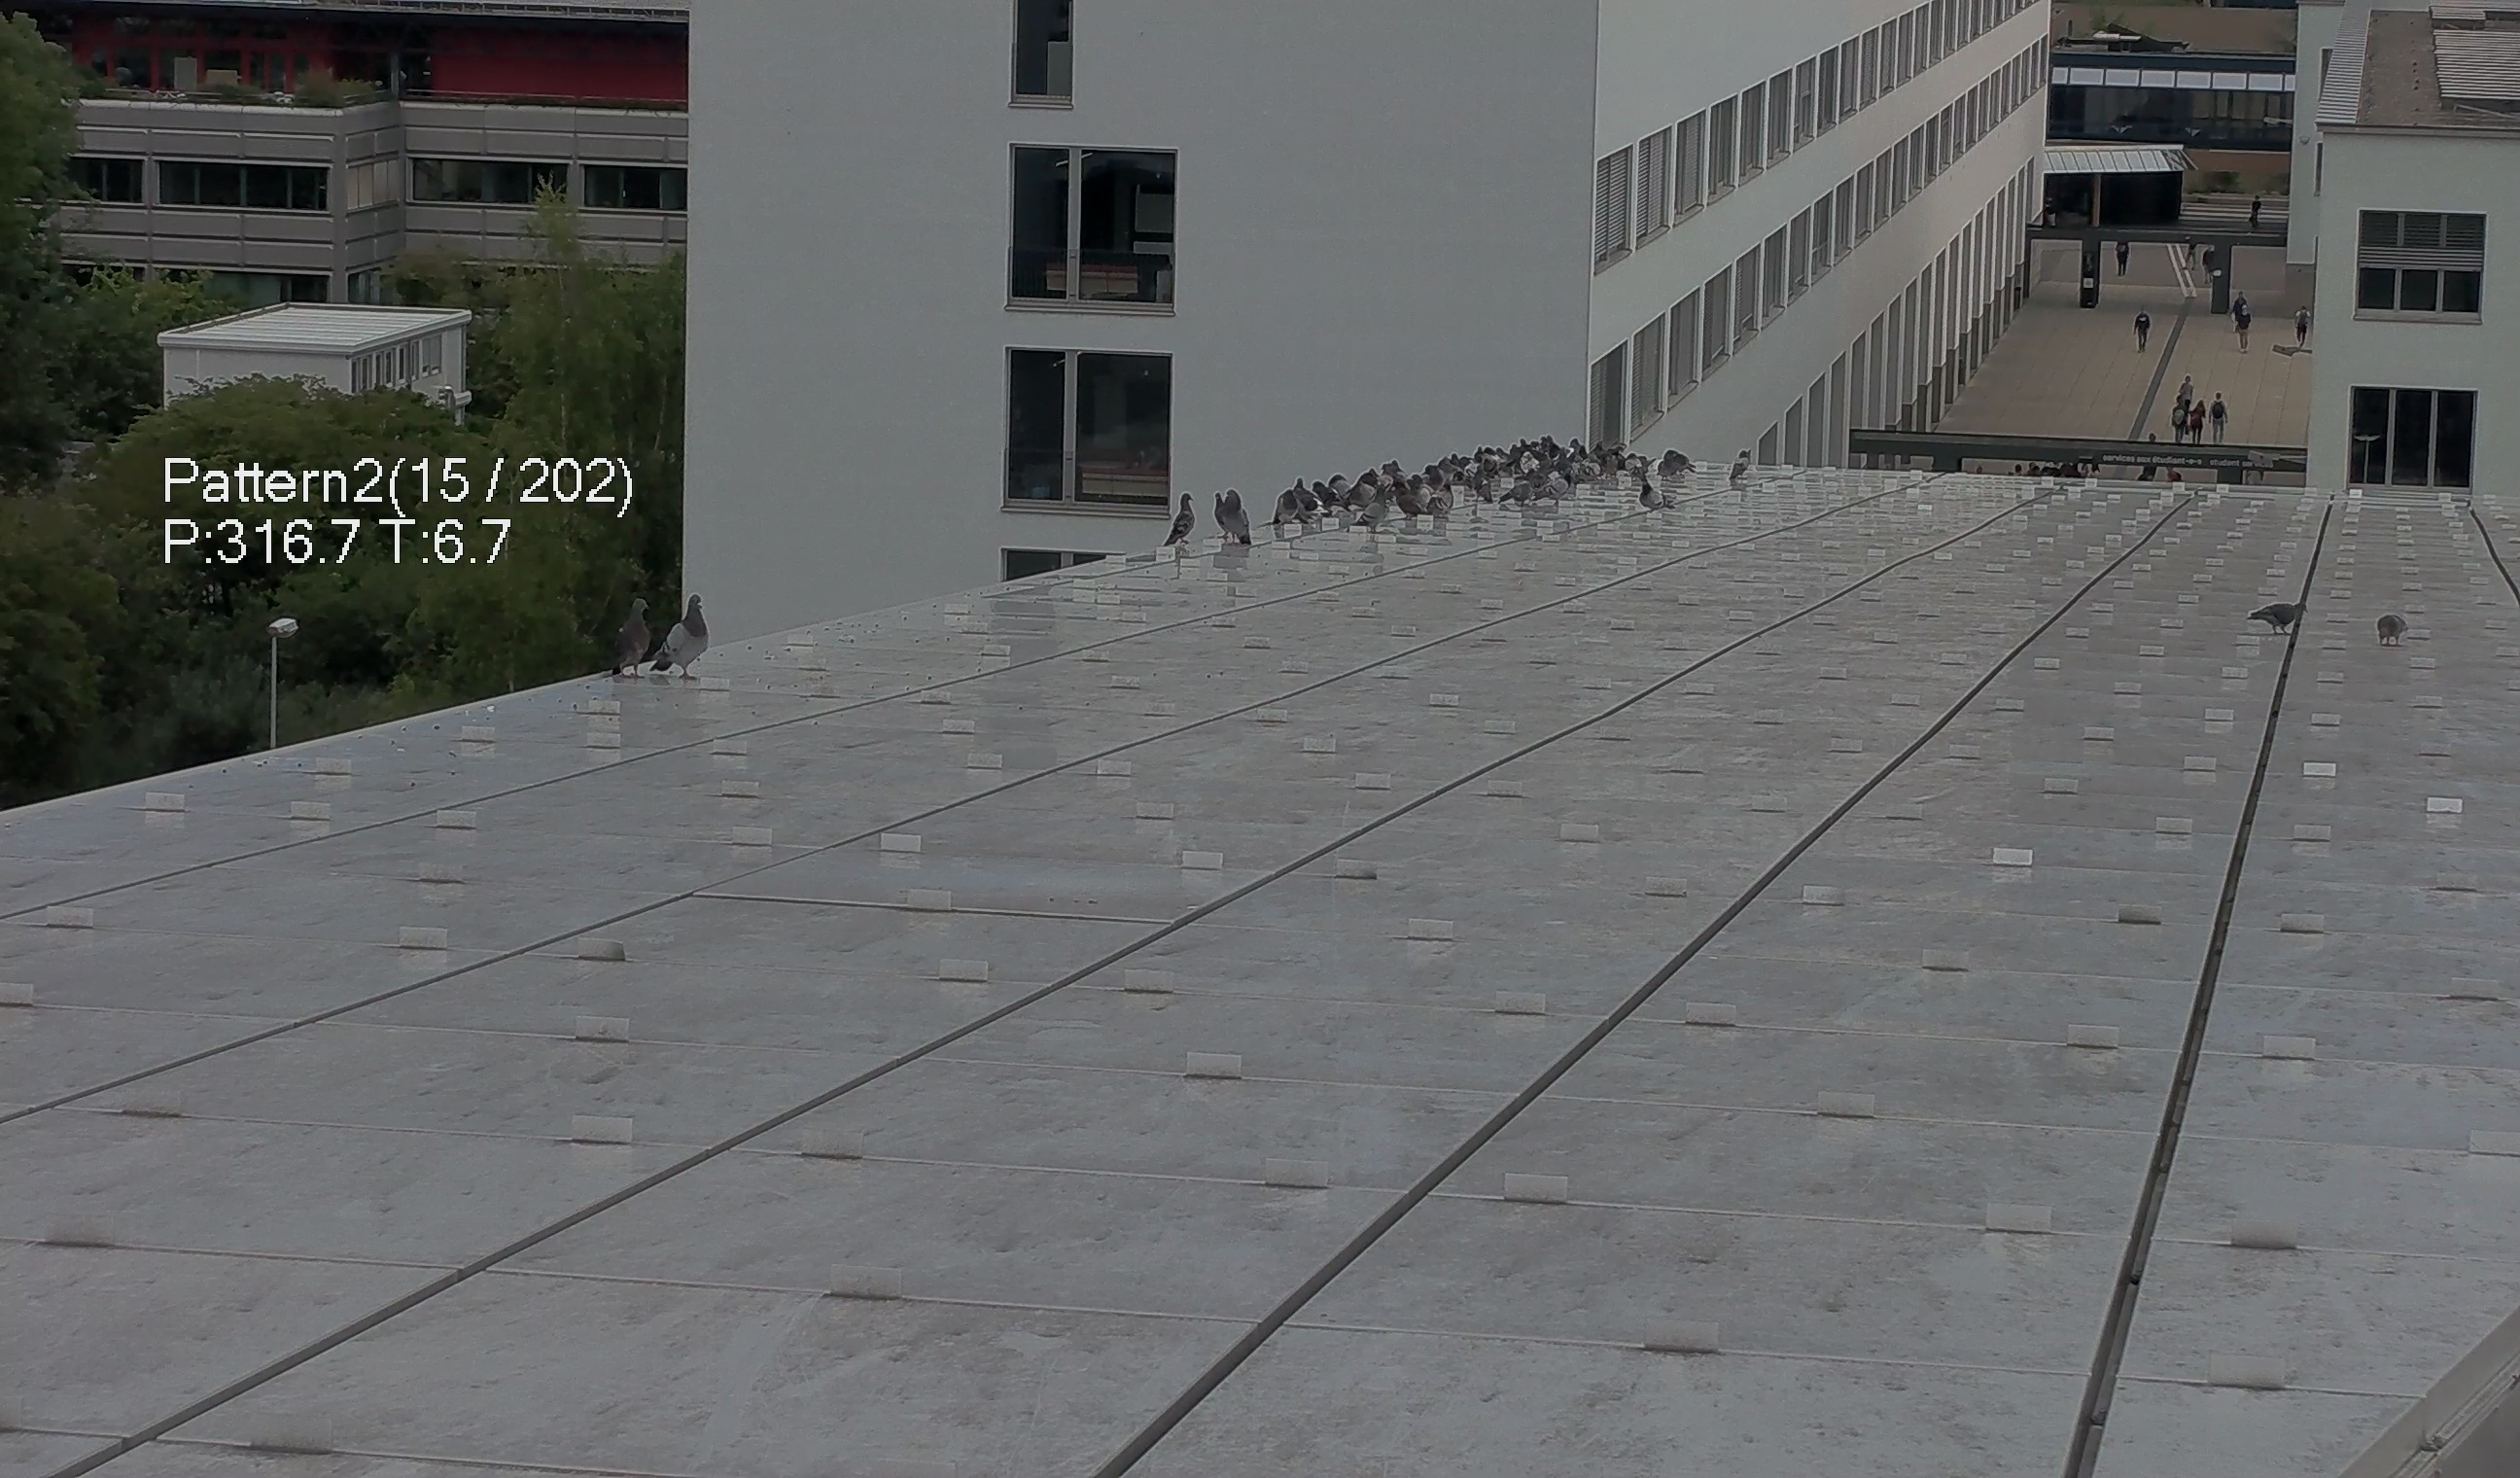Pigeon: (594, 581, 659, 691), (651, 581, 717, 683), (2254, 588, 2320, 639), (1154, 487, 1199, 560), (2371, 602, 2422, 658), (1222, 489, 1250, 549), (1354, 493, 1391, 533), (1468, 457, 1495, 512), (1498, 470, 1537, 507), (1539, 465, 1577, 501), (1271, 484, 1301, 531), (1658, 447, 1695, 482), (1474, 440, 1512, 473), (1349, 468, 1384, 503), (1296, 475, 1321, 524), (1393, 484, 1424, 521), (1639, 482, 1676, 514), (1312, 482, 1347, 514), (1444, 447, 1467, 491), (1430, 479, 1458, 514), (1386, 459, 1409, 501), (1727, 450, 1752, 489), (1329, 472, 1359, 500), (1421, 468, 1451, 491), (1213, 487, 1226, 537)
